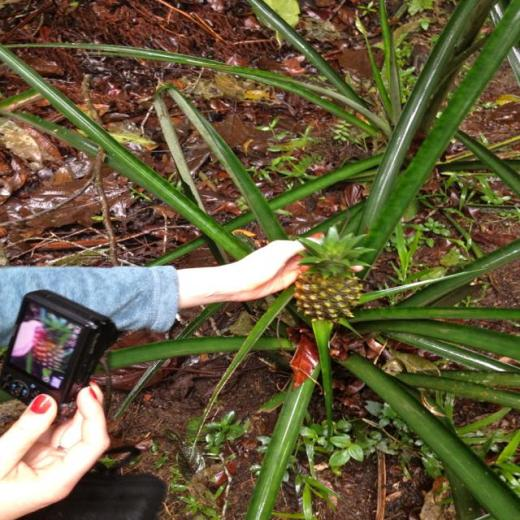Mango: (288, 224, 376, 322), (35, 314, 82, 367)
